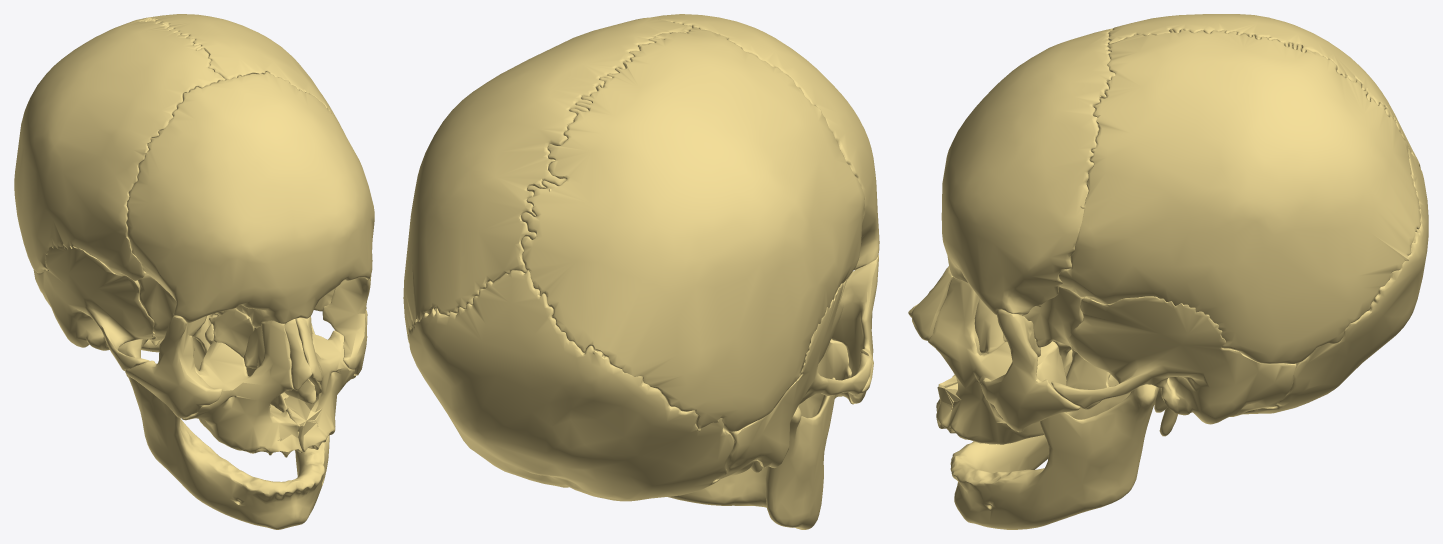
3 renders of one model, left to right at view 1: azimuth 30°, elevation 25°; view 2: azimuth 150°, elevation 25°; view 3: azimuth 270°, elevation 25°, orthographic. The views are drawn at different scales.
Parts seen in each view (by area): view 1: head-neck:frontal-bone:isa:FJ3200, head-neck:parietal-bone:isa:FJ3380, head-neck:mandible:isa:FJ3289, head-neck:maxilla:isa:FJ3375, head-neck:temporal-bone:isa:FJ3386, head-neck:parietal-bone:isa:FJ3274, head-neck:zygomatic-bone:isa:FJ3392, head-neck:maxilla:isa:FJ3269, head-neck:zygomatic-bone:isa:FJ3287, head-neck:sphenoid-bone:isa:FJ3394, head-neck:ethmoid:isa:FJ3199, head-neck:nasal-bone:isa:FJ3378 (+3 smaller); view 2: head-neck:parietal-bone:isa:FJ3380, head-neck:occiput:isa:FJ3309, head-neck:parietal-bone:isa:FJ3274, head-neck:frontal-bone:isa:FJ3200, head-neck:mandible:isa:FJ3289, head-neck:temporal-bone:isa:FJ3386, head-neck:zygomatic-bone:isa:FJ3392, head-neck:maxilla:isa:FJ3375; view 3: head-neck:parietal-bone:isa:FJ3274, head-neck:frontal-bone:isa:FJ3200, head-neck:mandible:isa:FJ3289, head-neck:temporal-bone:isa:FJ3281, head-neck:maxilla:isa:FJ3269, head-neck:occiput:isa:FJ3309, head-neck:parietal-bone:isa:FJ3380, head-neck:zygomatic-bone:isa:FJ3287, head-neck:sphenoid-bone:isa:FJ3394, head-neck:nasal-bone:isa:FJ3272, head-neck:lacrimal-bone:isa:FJ3265.
Boxes of the visible parts, x1,y1,x2,y2 form: head-neck:frontal-bone:isa:FJ3200: (126, 72, 374, 328); head-neck:parietal-bone:isa:FJ3380: (14, 18, 225, 280); head-neck:mandible:isa:FJ3289: (118, 324, 329, 529); head-neck:maxilla:isa:FJ3375: (182, 321, 302, 457); head-neck:temporal-bone:isa:FJ3386: (33, 244, 154, 377); head-neck:parietal-bone:isa:FJ3274: (138, 14, 345, 135); head-neck:zygomatic-bone:isa:FJ3392: (125, 315, 222, 418); head-neck:maxilla:isa:FJ3269: (271, 316, 355, 451); head-neck:zygomatic-bone:isa:FJ3287: (322, 275, 371, 375); head-neck:sphenoid-bone:isa:FJ3394: (138, 273, 334, 370); head-neck:ethmoid:isa:FJ3199: (209, 308, 254, 357); head-neck:nasal-bone:isa:FJ3378: (284, 319, 312, 390); head-neck:parietal-bone:isa:FJ3380: (521, 27, 864, 431); head-neck:occiput:isa:FJ3309: (408, 270, 734, 501); head-neck:parietal-bone:isa:FJ3274: (403, 17, 692, 342); head-neck:frontal-bone:isa:FJ3200: (651, 14, 879, 269); head-neck:mandible:isa:FJ3289: (668, 377, 835, 529); head-neck:temporal-bone:isa:FJ3386: (717, 278, 872, 479); head-neck:zygomatic-bone:isa:FJ3392: (831, 255, 878, 403); head-neck:maxilla:isa:FJ3375: (798, 339, 854, 417); head-neck:parietal-bone:isa:FJ3274: (1059, 29, 1420, 363); head-neck:frontal-bone:isa:FJ3200: (941, 28, 1115, 315); head-neck:mandible:isa:FJ3289: (950, 374, 1159, 529); head-neck:temporal-bone:isa:FJ3281: (1051, 296, 1296, 436); head-neck:maxilla:isa:FJ3269: (928, 278, 1066, 444); head-neck:occiput:isa:FJ3309: (1241, 147, 1428, 414); head-neck:parietal-bone:isa:FJ3380: (1108, 14, 1420, 168); head-neck:zygomatic-bone:isa:FJ3287: (981, 309, 1080, 431); head-neck:sphenoid-bone:isa:FJ3394: (1022, 286, 1110, 409); head-neck:nasal-bone:isa:FJ3272: (911, 266, 953, 340); head-neck:lacrimal-bone:isa:FJ3265: (974, 298, 1004, 353).
Size of the model in its own units: 0.151 by 0.2146 by 0.2088.
